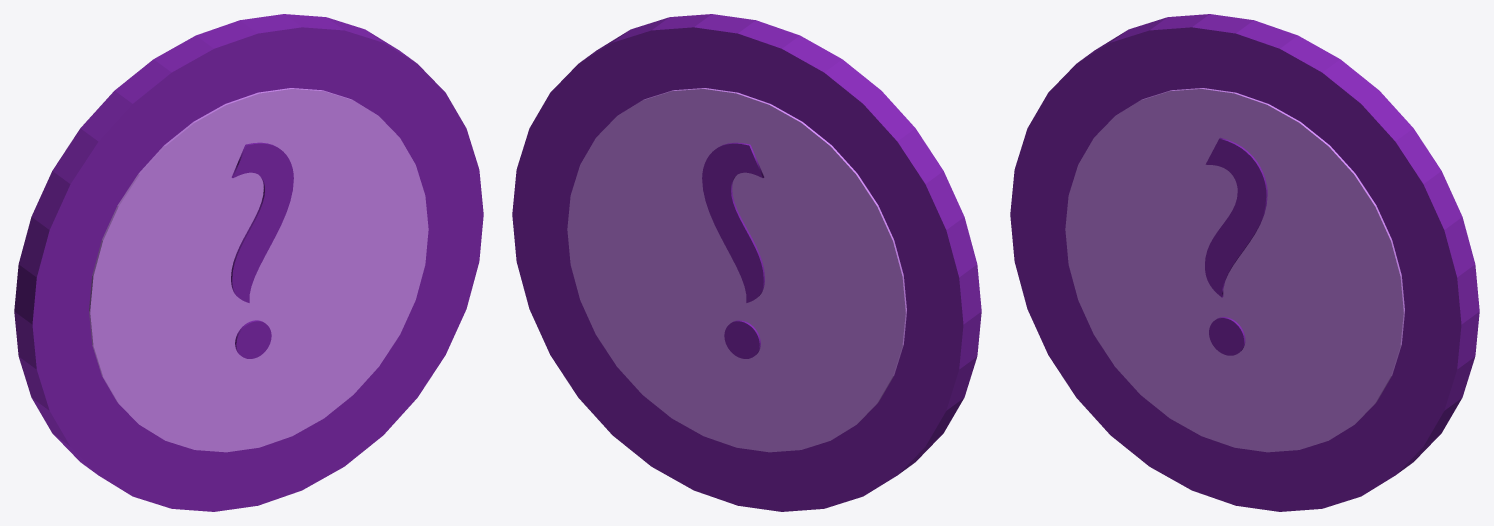
Rendered from Open.glb.
3 renders of one model, left to right at view 1: azimuth 30°, elevation 25°; view 2: azimuth 150°, elevation 25°; view 3: azimuth 330°, elevation 25°, orthographic.
Parts seen in each view (by area): view 1: Cylinder, Cylinder.001, Text; view 2: Cylinder, Cylinder.001, Text; view 3: Cylinder, Cylinder.001, Text.
Boxes of the visible parts, left/top/right/bottom form: Cylinder: left=89, top=88, right=428, bottom=452; Cylinder.001: left=14, top=14, right=483, bottom=511; Text: left=231, top=142, right=293, bottom=358; Cylinder: left=567, top=88, right=906, bottom=452; Cylinder.001: left=512, top=14, right=981, bottom=511; Text: left=702, top=142, right=764, bottom=358; Cylinder: left=1065, top=88, right=1404, bottom=452; Cylinder.001: left=1010, top=14, right=1479, bottom=511; Text: left=1205, top=137, right=1267, bottom=355.
Size of the model in its own units: 2 by 2 by 0.18.
